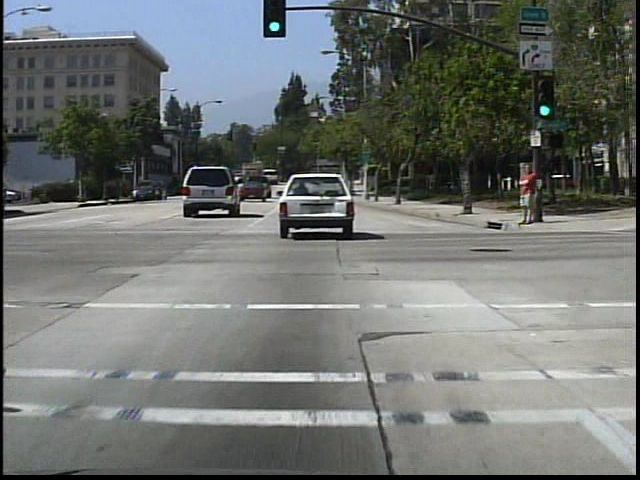person: (514, 160, 541, 228), (2, 182, 17, 212)
